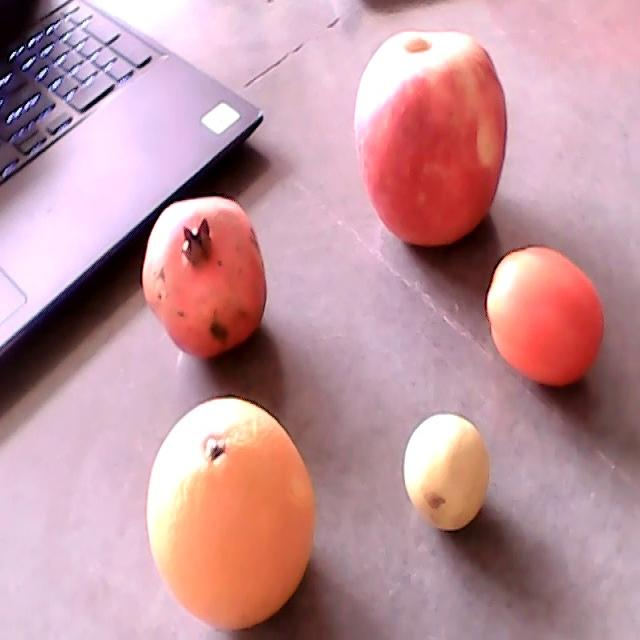apple: (353, 31, 508, 248)
lemon: (405, 413, 490, 530)
orange: (147, 397, 315, 631)
pomegranate: (142, 196, 267, 360)
tomato: (486, 245, 605, 386)
